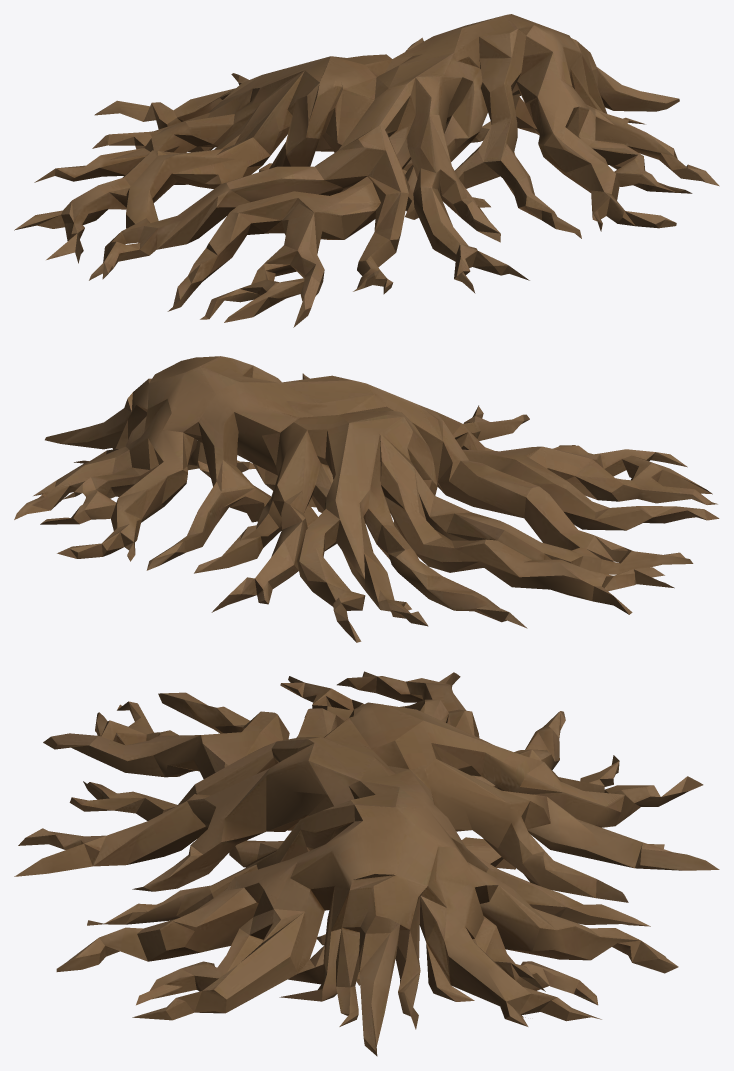
File: floorRoots.glb
3 renders of one model, top to bottom at view 1: azimuth 30°, elevation 25°; view 2: azimuth 150°, elevation 25°; view 3: azimuth 270°, elevation 25°, orthographic. The views are drawn at different scales.
Size of the model in its own units: 1.92 by 0.3494 by 1.49.
1 material, 1 textured.
